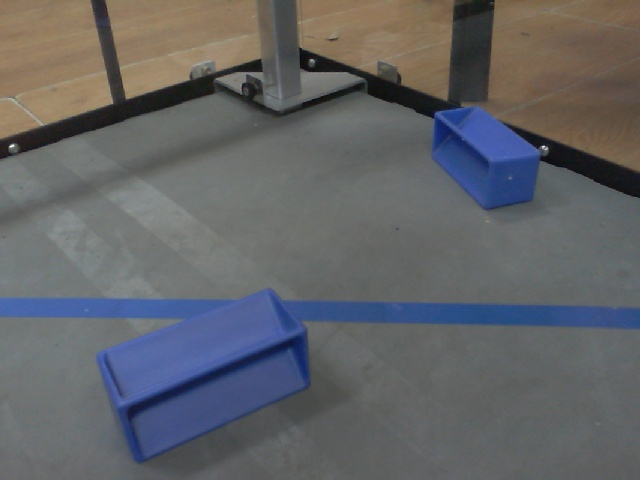BlueSample: (93, 283, 316, 467), (429, 104, 543, 214)
